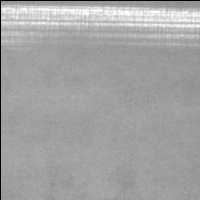scratches: (2, 5, 200, 36)
